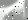person: (1, 1, 28, 20)
